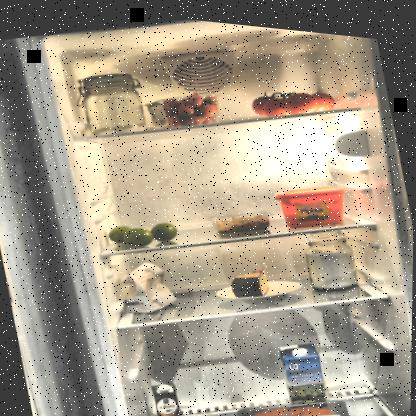beef: (230, 378, 355, 415)
blueberries: (327, 397, 408, 415)
butter: (271, 168, 357, 230)
cheese: (222, 253, 279, 299)
heavy_cream: (151, 376, 185, 415)
lime: (107, 209, 181, 252)
milk: (278, 330, 334, 412)
potato: (148, 395, 232, 415)
shrimp: (214, 202, 272, 233)
strawberries: (143, 79, 224, 134)
tomato: (247, 67, 338, 123)
